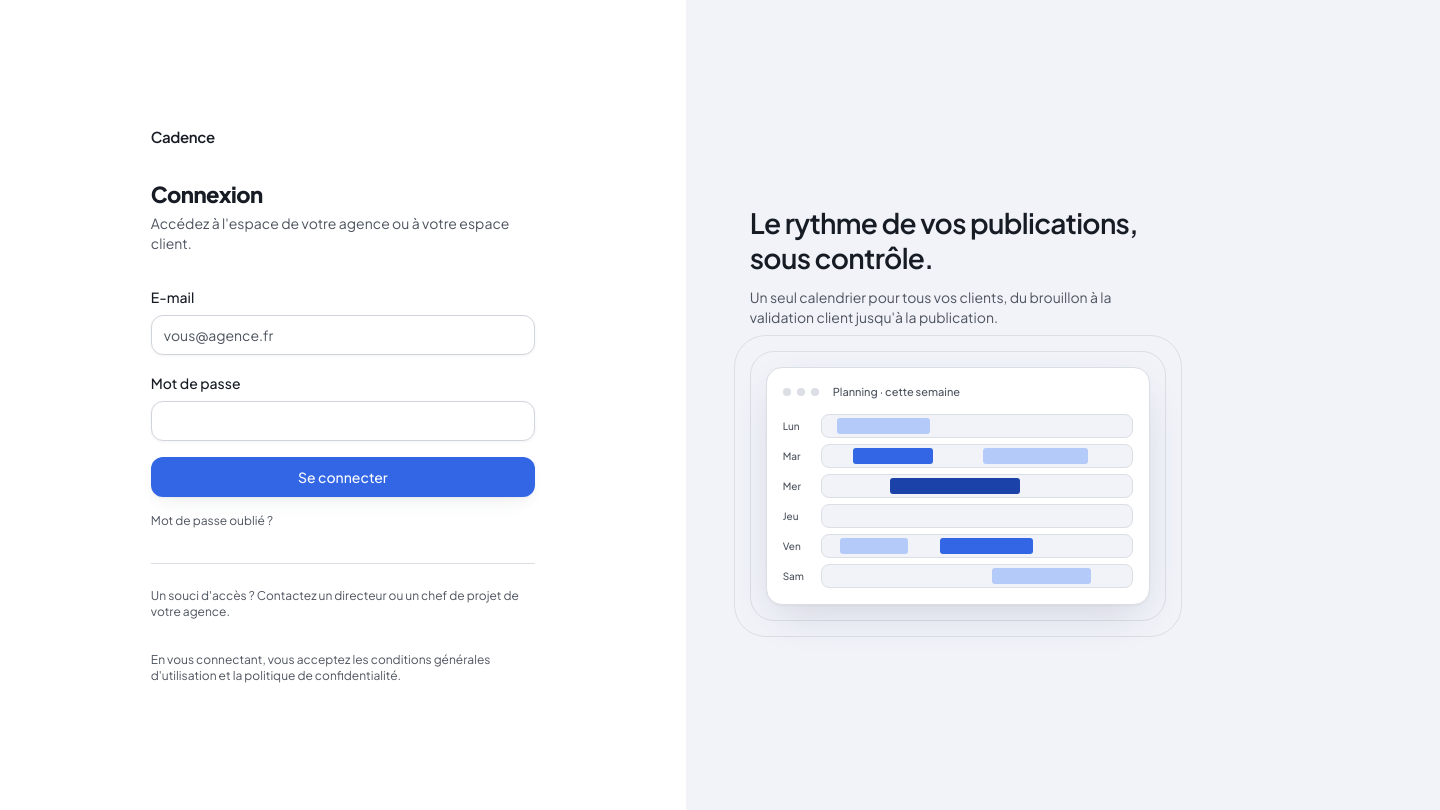
Test: LoginPage › affiche le message quand le compte est désactivé
Type "x@example.test" into the field labelled "E-mail" at [343, 335], box [151,315,535,355]
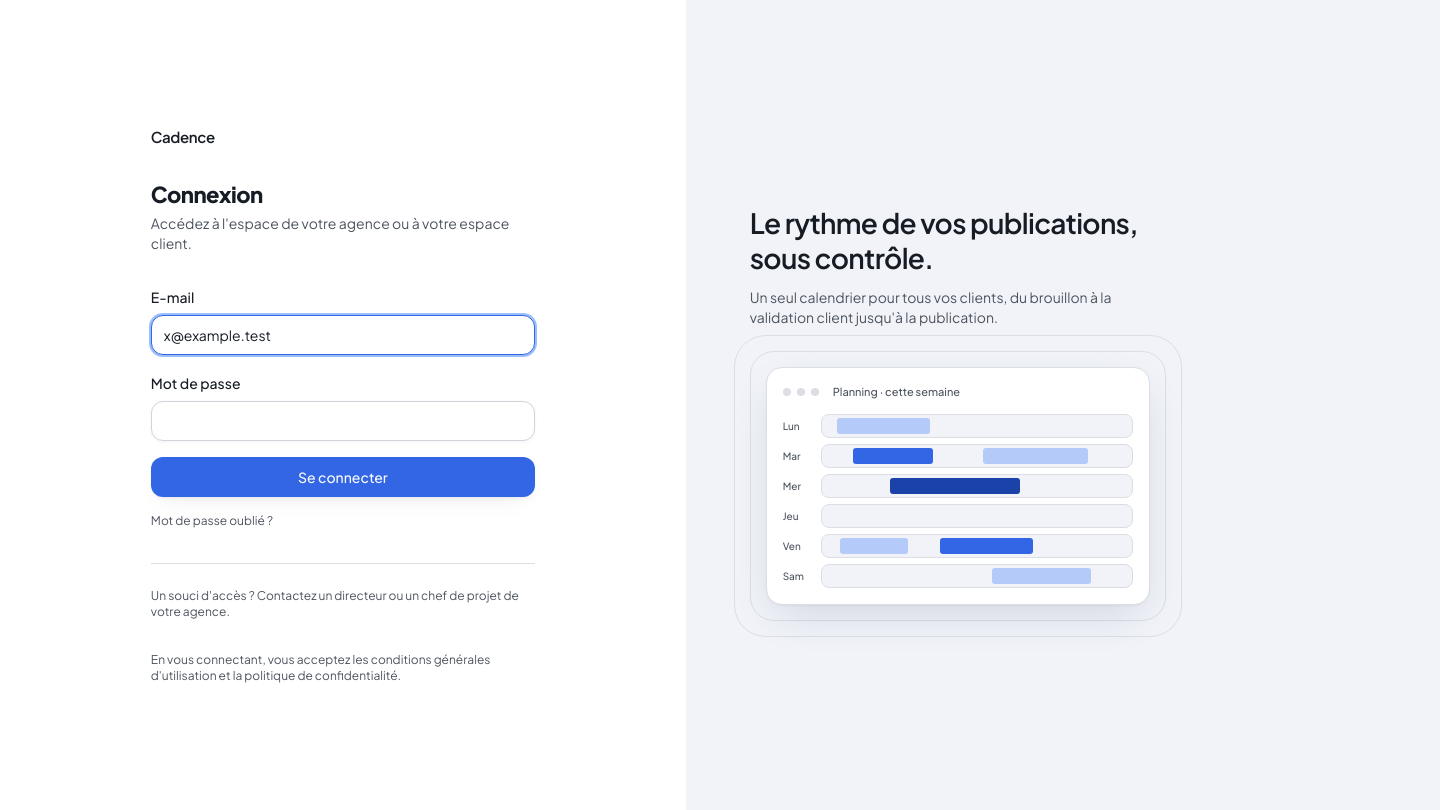
Type "secret" into the password field labelled "Mot de passe" at [343, 421], box [151,401,535,441]
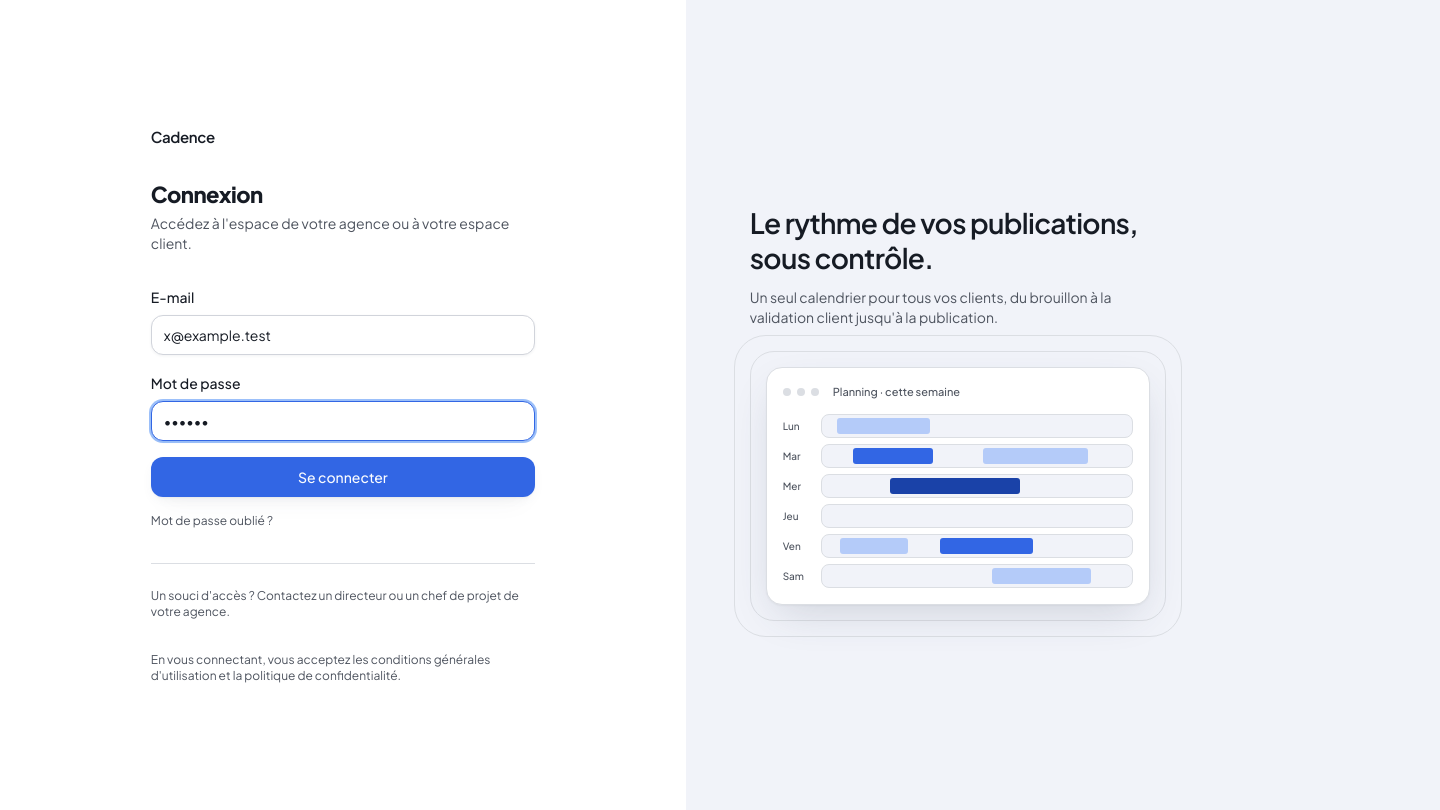
Click the button "Se connecter" at [343, 477], box [151,457,535,497]
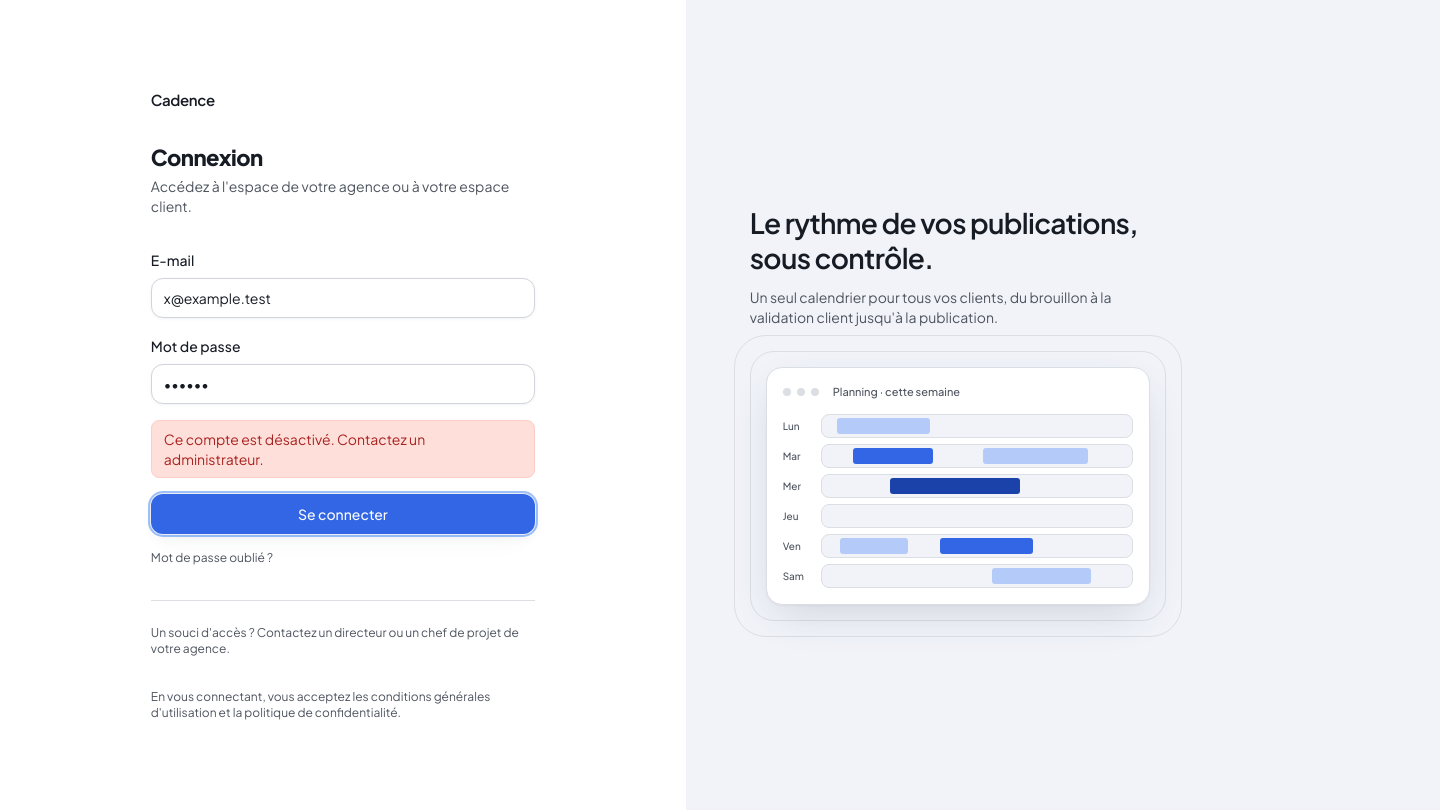
Result: the text "Ce compte est désactivé. Contactez un administrateur." is shown at [151,420,535,478]
